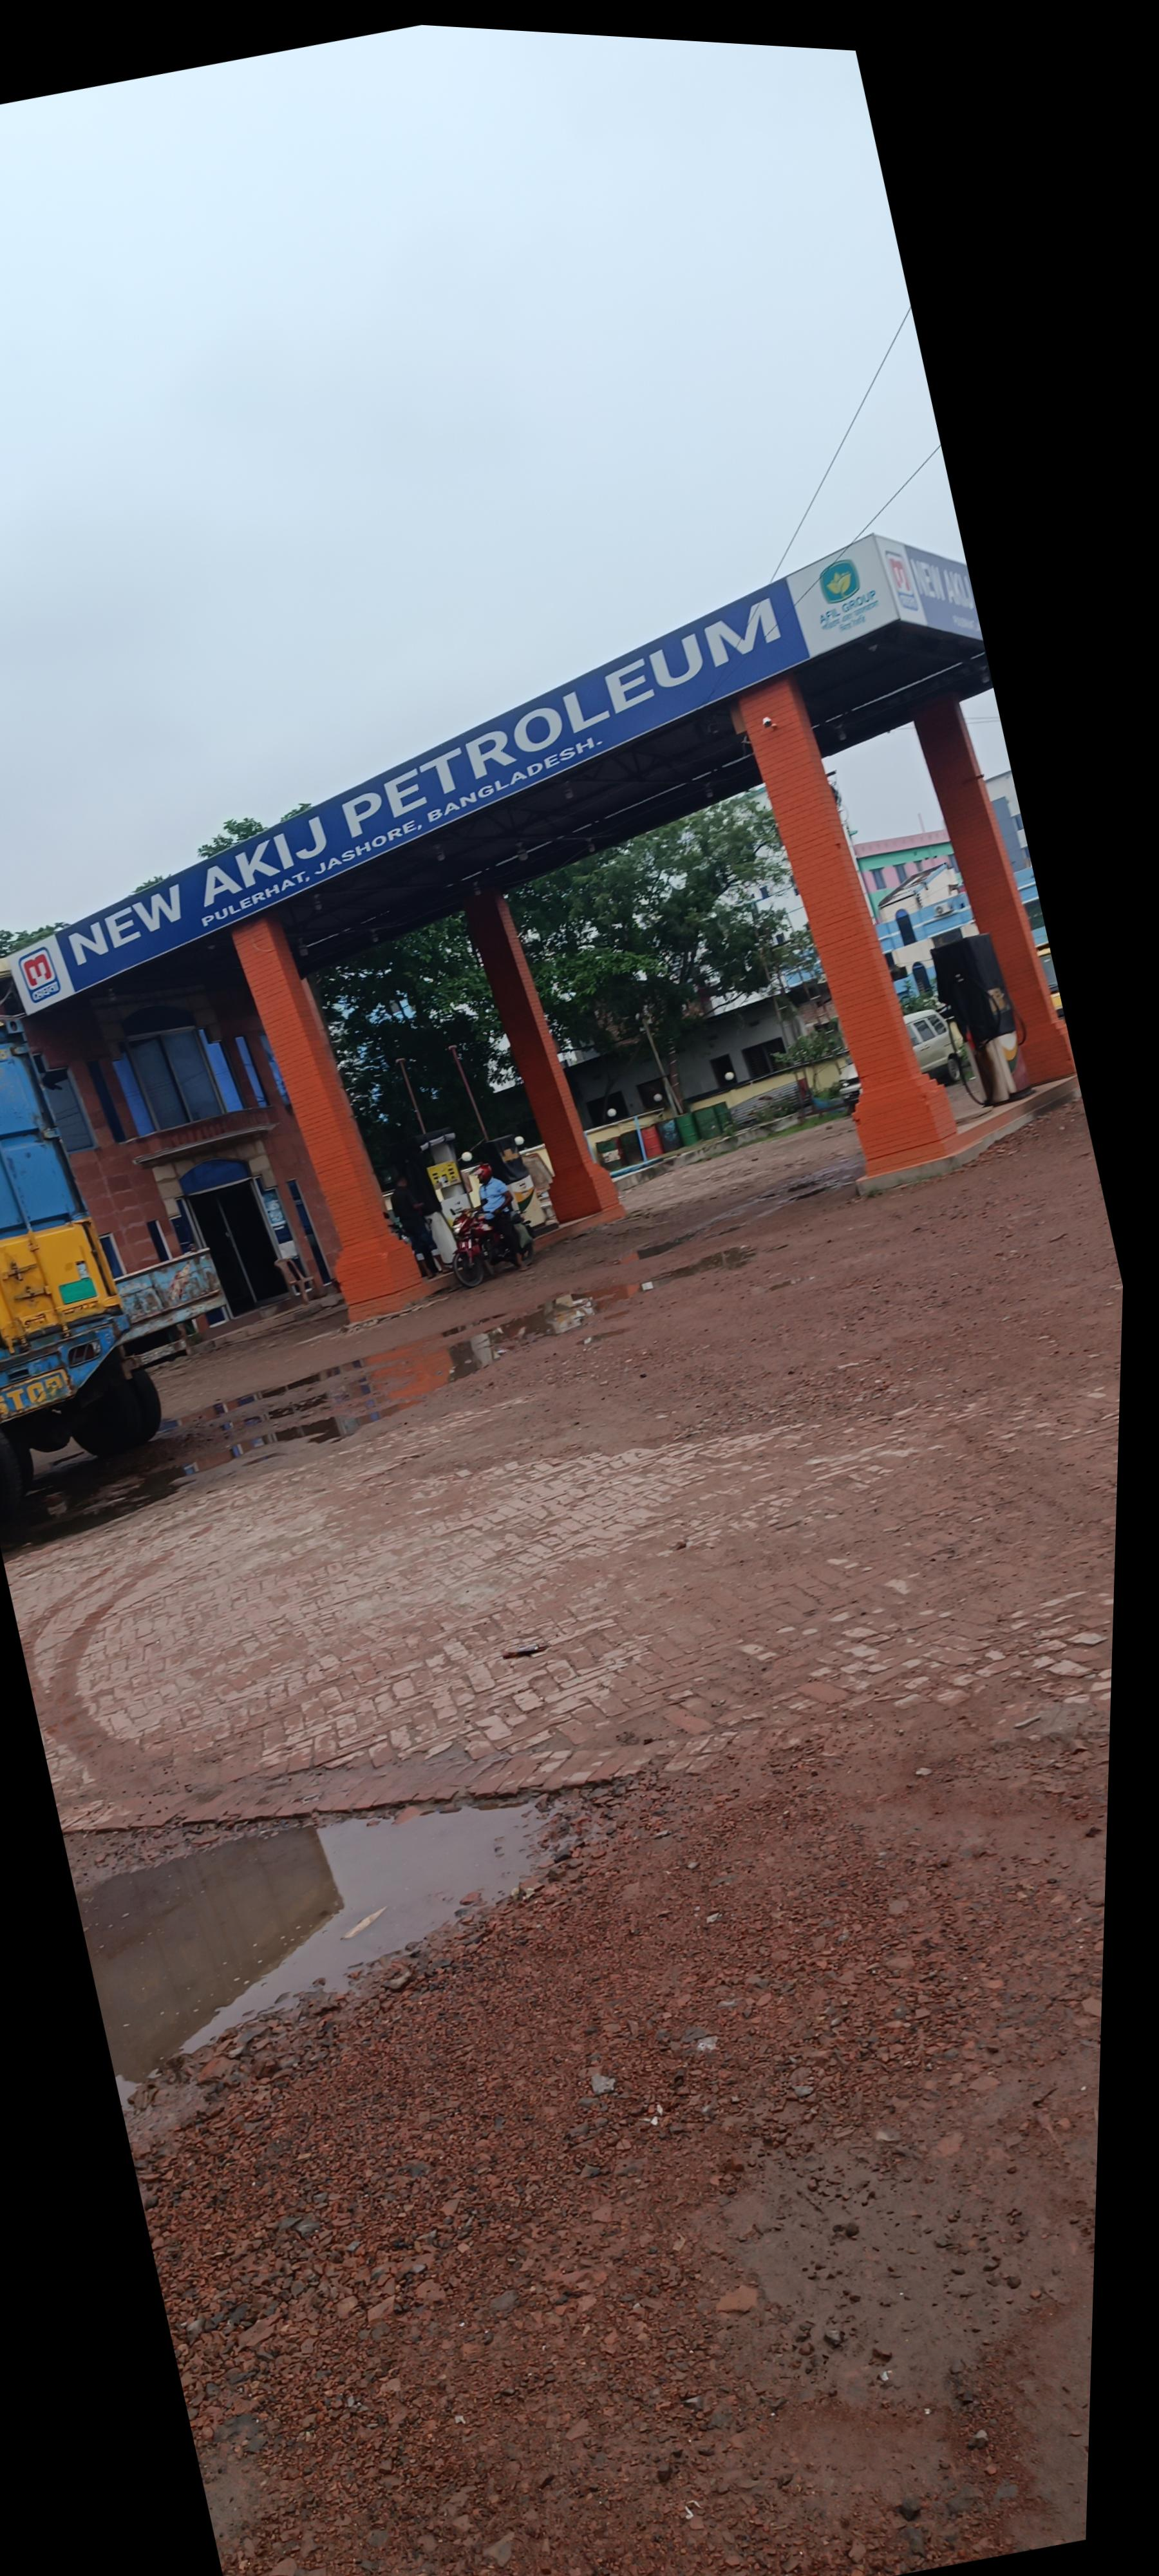Fallen-tree: (158, 1337, 268, 1446)
Garbage-bin: (187, 1306, 256, 1426), (105, 1318, 171, 1436)
Potted-plant: (0, 1863, 391, 2295)
